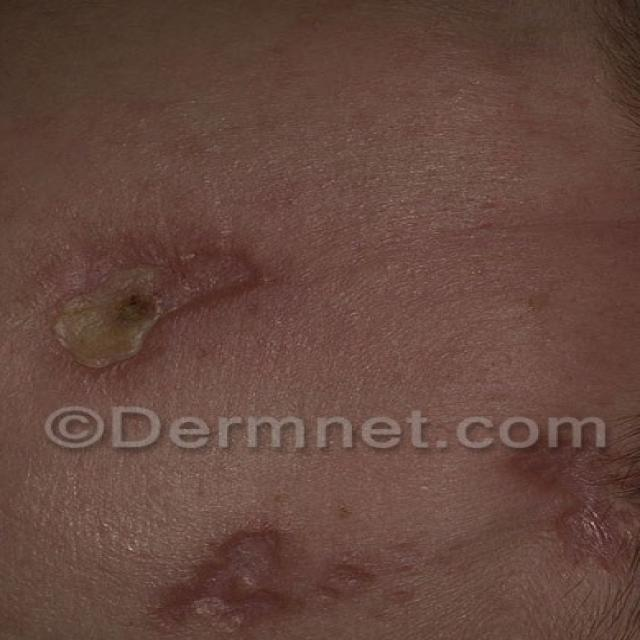Viral Infections: (7, 214, 290, 356), (133, 506, 410, 640), (490, 412, 640, 569), (0, 494, 28, 583)
